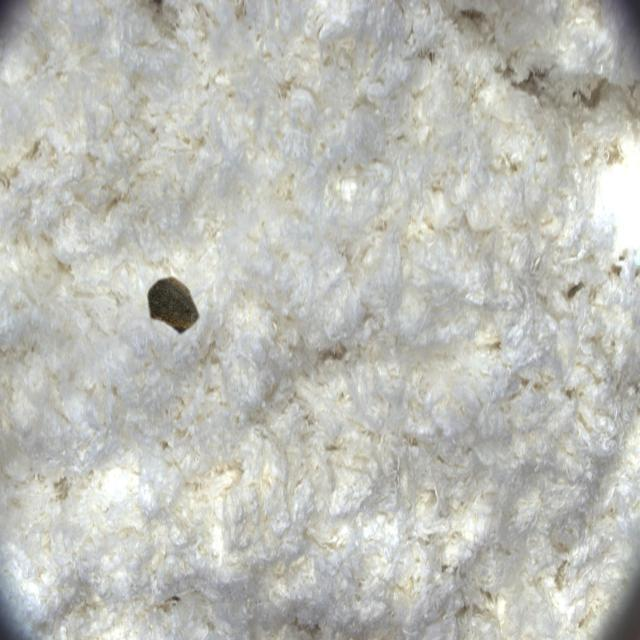dust: (133, 246, 227, 371)
